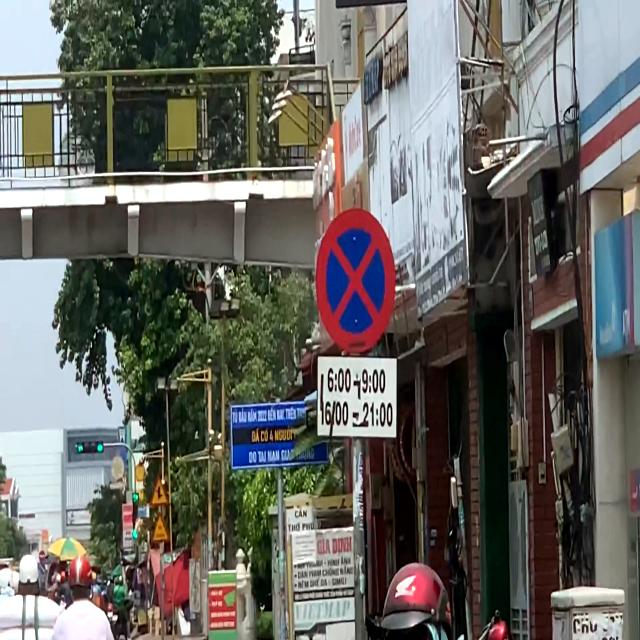P.130: (315, 207, 396, 355)
W.207a: (150, 476, 169, 506)
W.245a: (151, 514, 170, 542)
